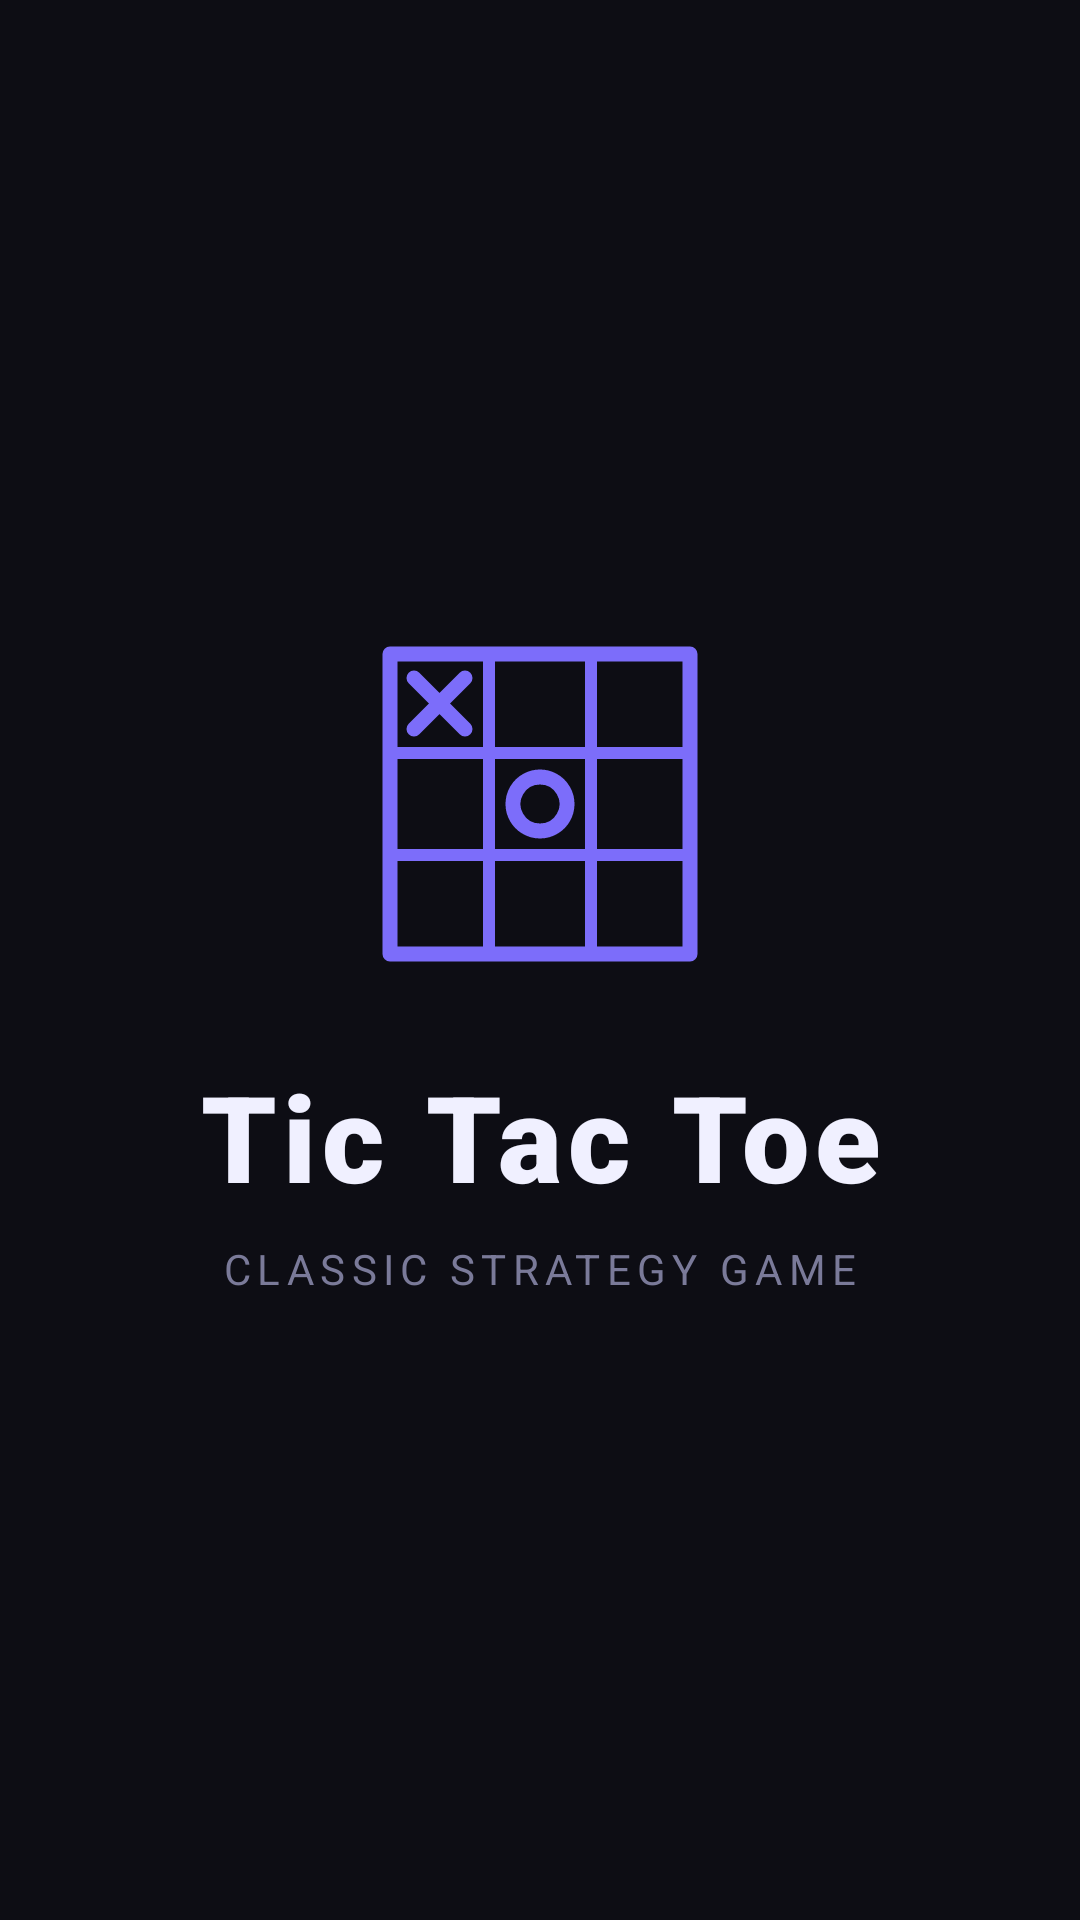

Screen size 1080x1920. Icon name, then its center in pixels as (x=x, y=y):
grid: (x=540, y=804)
